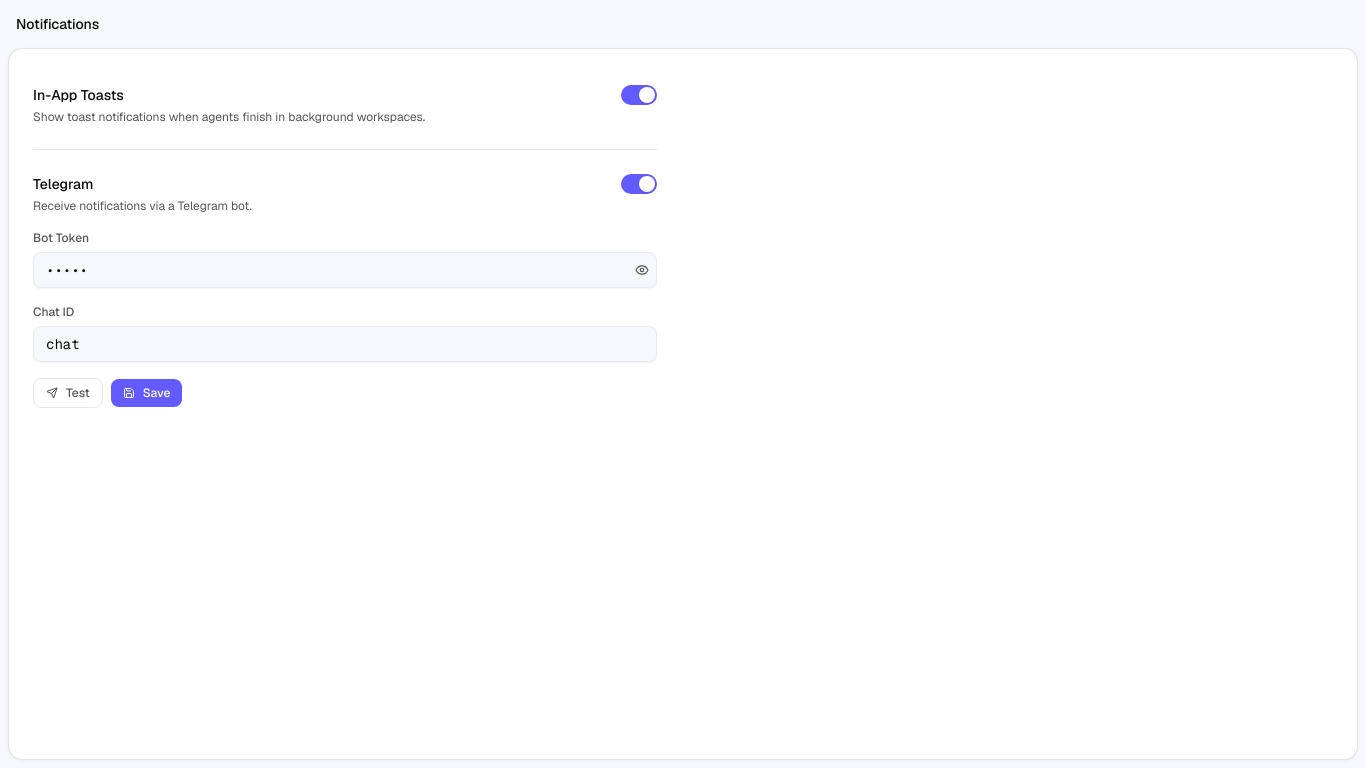
Test: NotificationSettings › shows save error and clears feedback on input change
The image size is (1366, 768).
expect the heading "Notifications" is shown: met, box [16,14,99,34]
Step 1. Click the button "Save" → (147, 393), box [111,379,182,407]
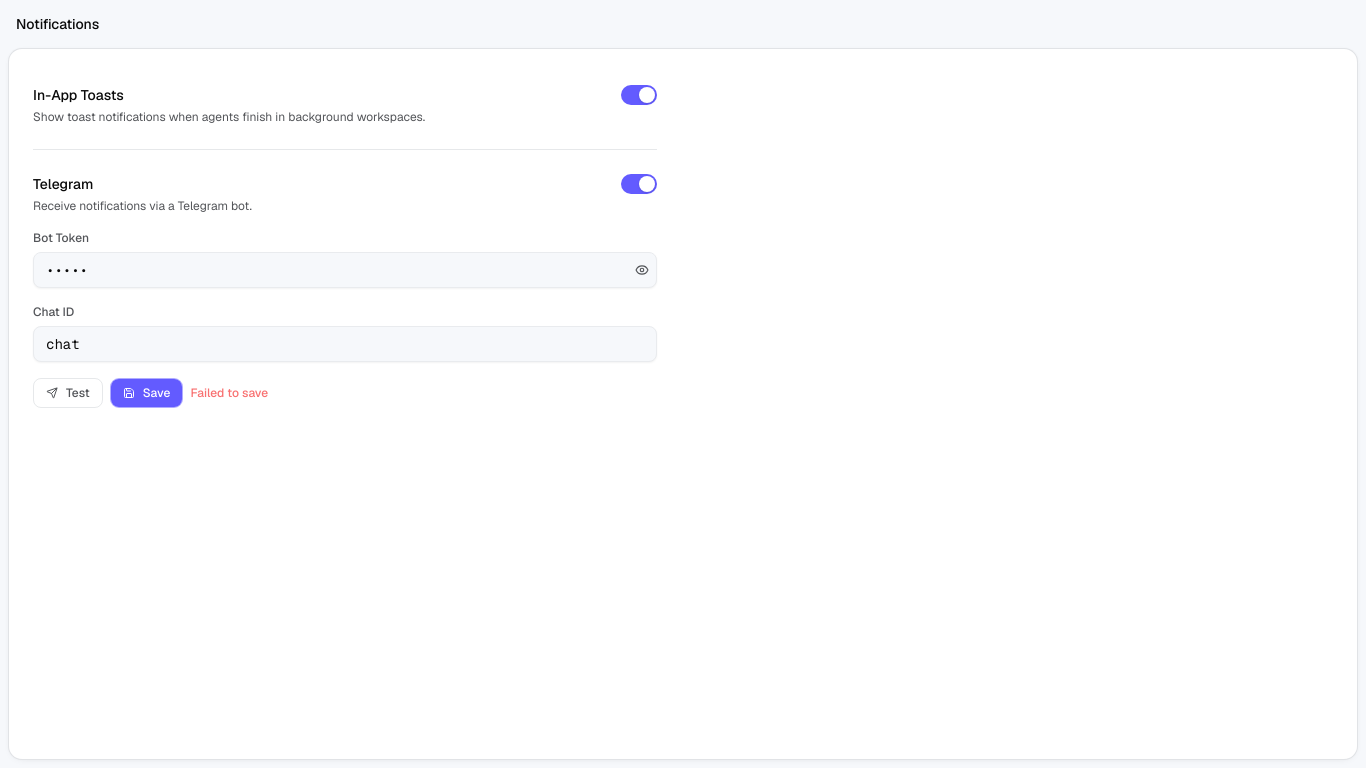
expect the text "Failed to save" is shown: met, box [190,385,268,401]
Step 2. Type "1" into the field labelled "Chat ID" → (345, 344), box [33,326,657,362]
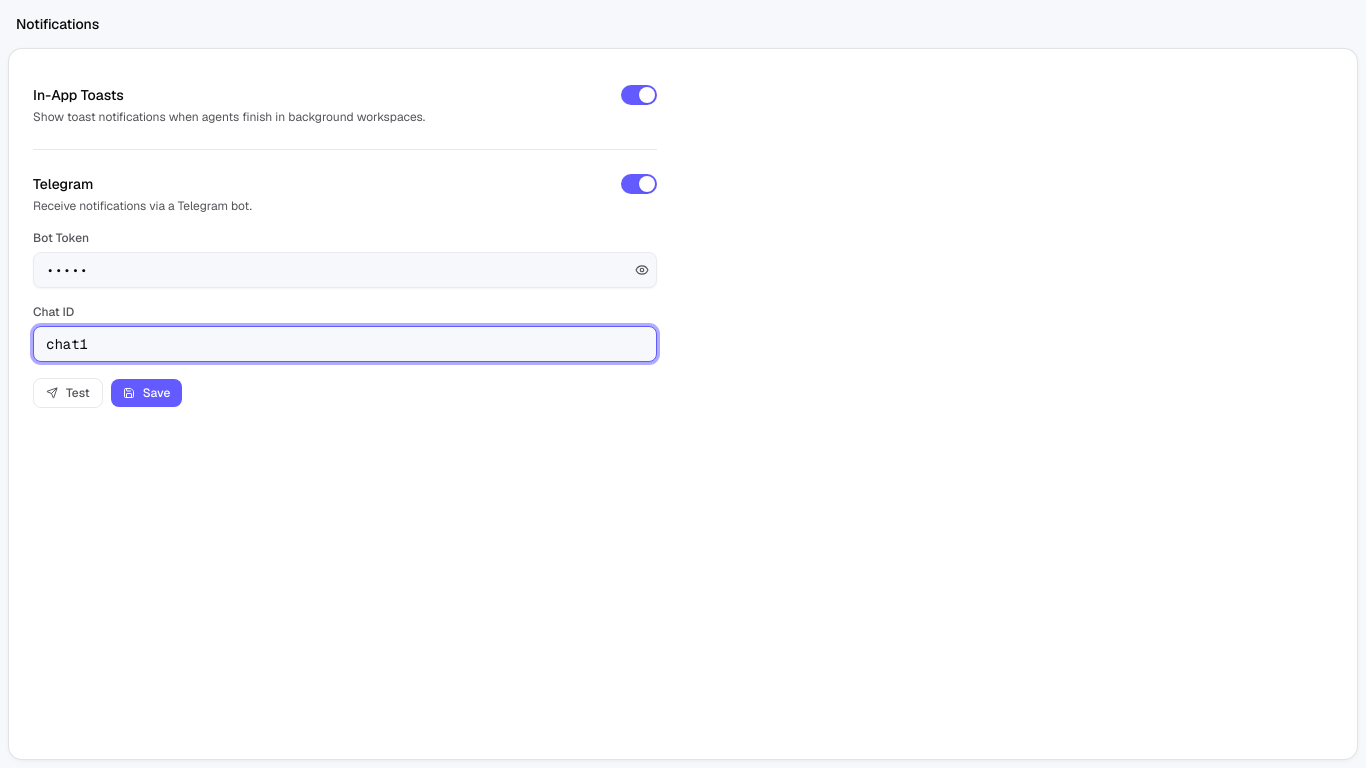
expect the text "Failed to save" is gone: met
